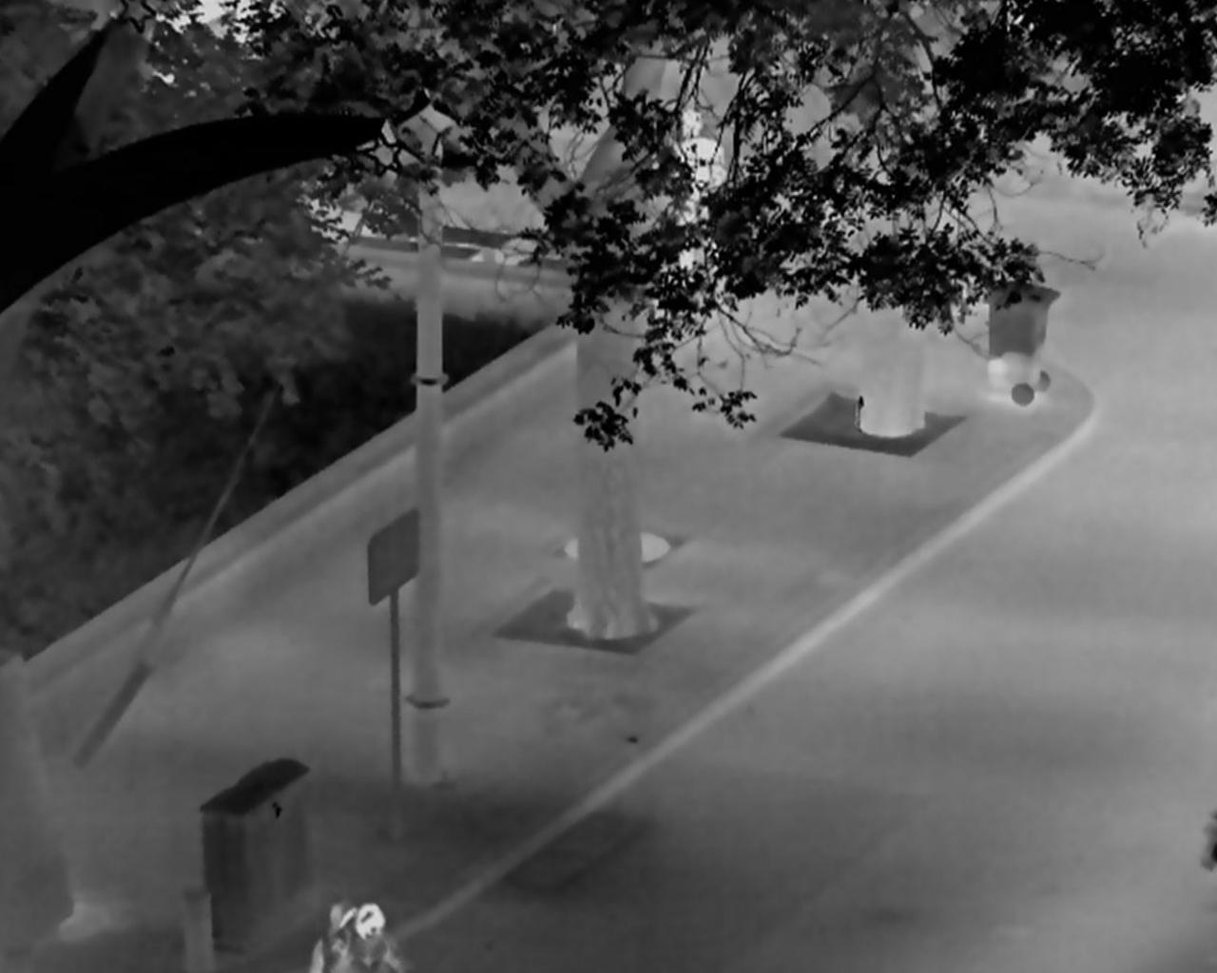person: (669, 109, 727, 308), (324, 904, 408, 973), (309, 900, 359, 973)
